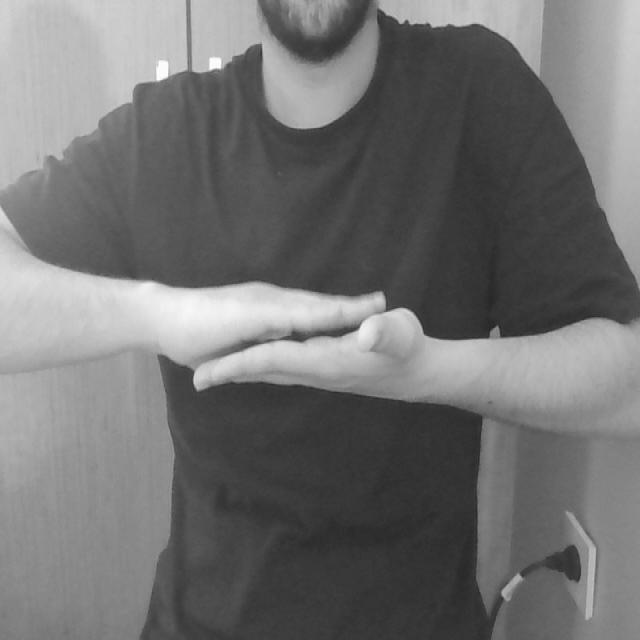Arkadas: (4, 264, 640, 428)
